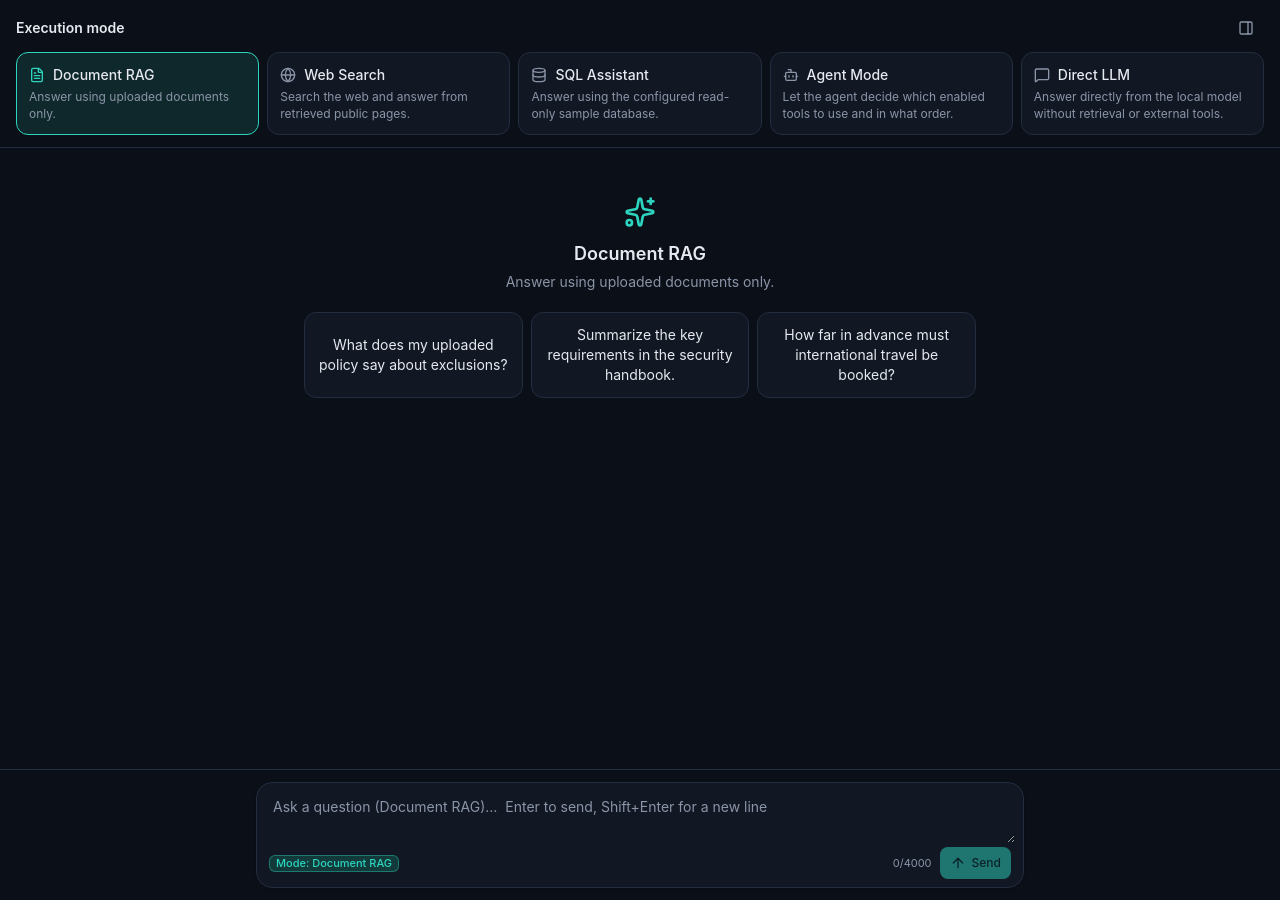
Scenario: example questions are shown for the selected mode
Expected: the button "What does my uploaded policy say about exclusions?" is shown, top-left (304, 312), bottom-right (523, 398)
Click the radio button labelled "SQL Assistant": (640, 94) top-left (518, 52), bottom-right (762, 135)
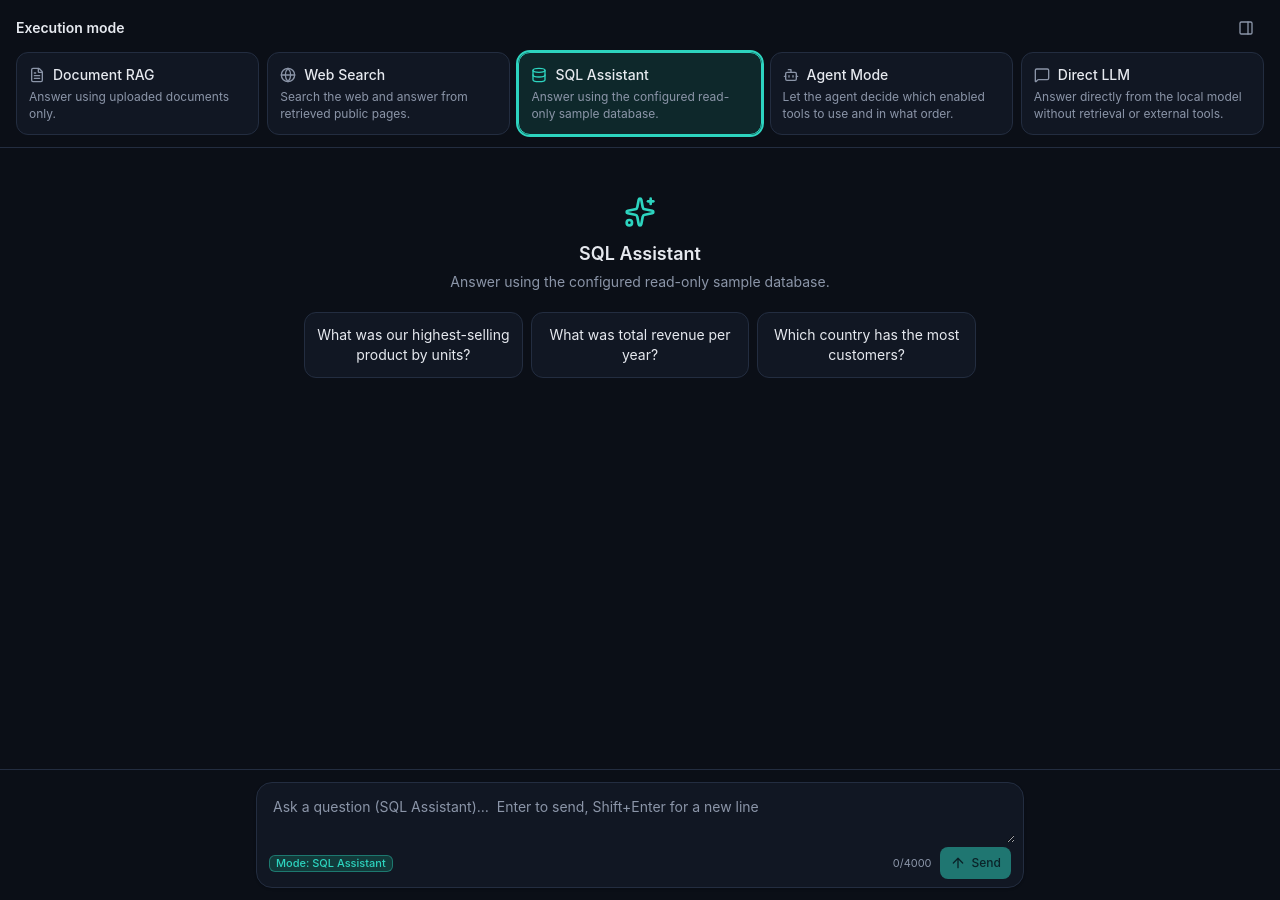
Result: the button "What was our highest-selling product by units?" is shown at top-left (304, 312), bottom-right (523, 378)
